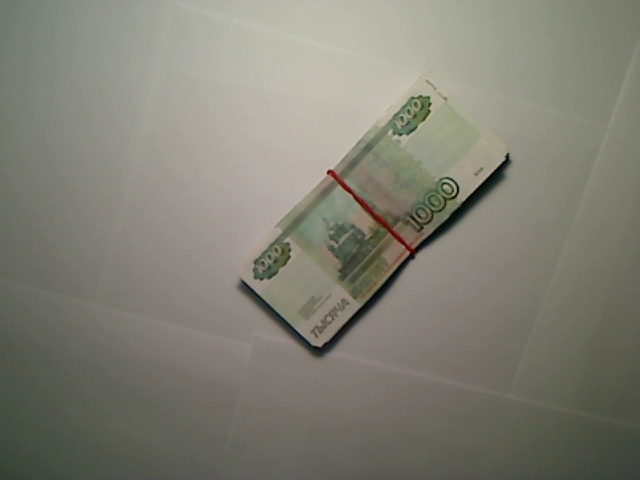banknotes: (234, 73, 514, 353)
